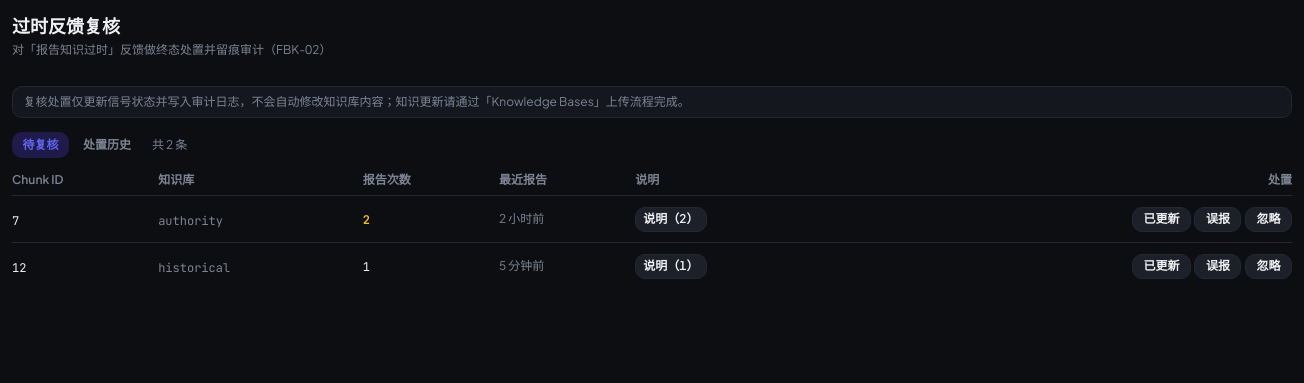
Test: ReviewQueuePanel — expand per-report notes › renders (未填写说明) for reports without a note
Click the button with test id "review-expand-12".
click(671, 266)  # box [635,254,706,279]
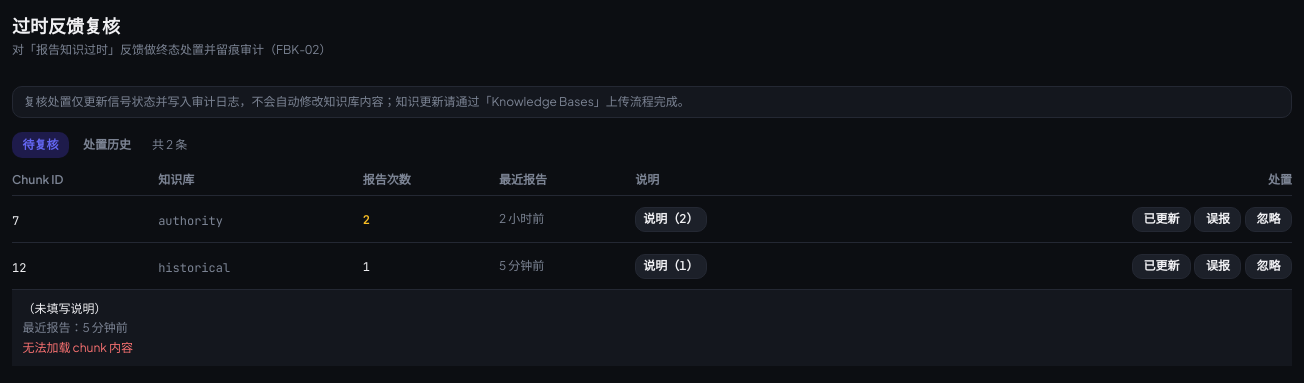
Now the element with test id "review-comments-12" shows "（未填写说明）", box [22,301,106,316]
Now the text with test id "review-preview-12" reads "无法加载 chunk 内容", box [22,340,133,355]
